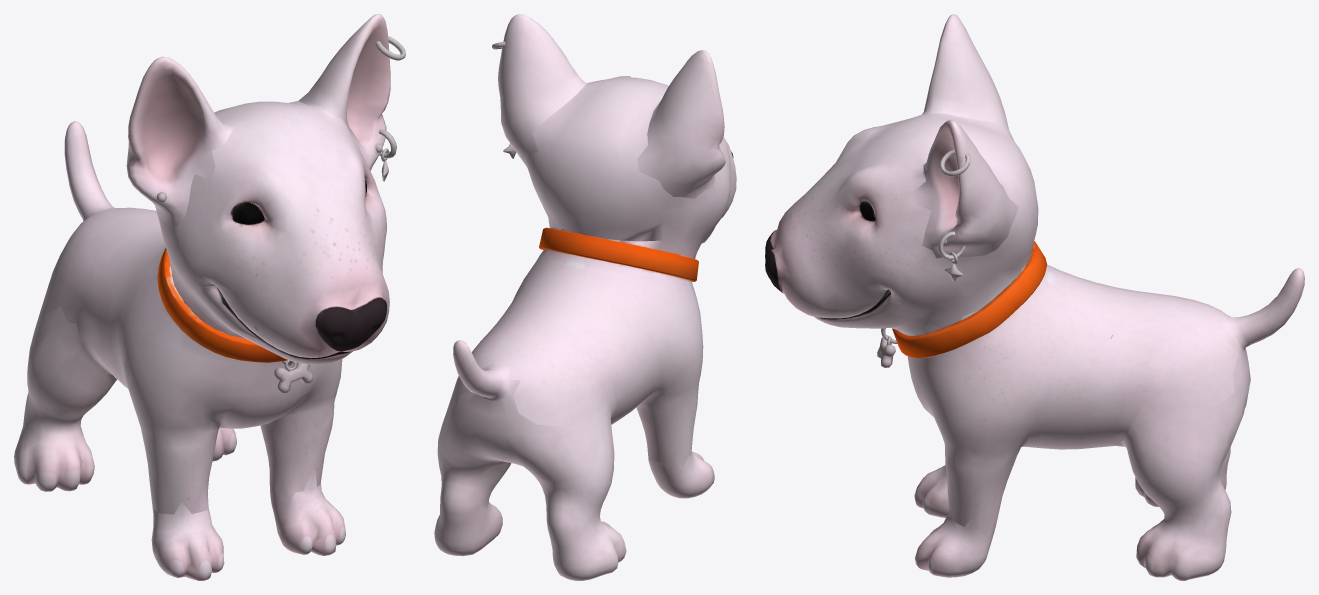
The model's file is parts_split.glb.
3 views of the same model, side by side, from view 1: azimuth 30°, elevation 25°; view 2: azimuth 150°, elevation 25°; view 3: azimuth 270°, elevation 25° (orthographic). The views are drawn at different scales.
Visible parts, largest first — view 1: tripo_part_0, tripo_part_2, tripo_part_1, tripo_part_4, tripo_part_5, tripo_part_12, tripo_part_3, tripo_part_7, tripo_part_8, tripo_part_13; view 2: tripo_part_2, tripo_part_1, tripo_part_0, tripo_part_4, tripo_part_5, tripo_part_7, tripo_part_12; view 3: tripo_part_2, tripo_part_0, tripo_part_1, tripo_part_5, tripo_part_4, tripo_part_7, tripo_part_3, tripo_part_12.
Part boxes in pixels (bbox=[...]): tripo_part_0: bbox=[155, 101, 389, 364]; tripo_part_2: bbox=[45, 207, 342, 514]; tripo_part_1: bbox=[14, 121, 236, 491]; tripo_part_4: bbox=[126, 56, 234, 231]; tripo_part_5: bbox=[298, 14, 390, 170]; tripo_part_12: bbox=[151, 502, 224, 580]; tripo_part_3: bbox=[270, 464, 345, 555]; tripo_part_7: bbox=[157, 248, 287, 362]; tripo_part_8: bbox=[274, 362, 313, 393]; tripo_part_13: bbox=[232, 202, 264, 224]; tripo_part_2: bbox=[450, 229, 703, 469]; tripo_part_1: bbox=[434, 340, 626, 580]; tripo_part_0: bbox=[525, 76, 736, 258]; tripo_part_4: bbox=[637, 50, 725, 198]; tripo_part_5: bbox=[498, 14, 587, 167]; tripo_part_7: bbox=[539, 227, 698, 281]; tripo_part_12: bbox=[648, 451, 714, 498]; tripo_part_2: bbox=[907, 265, 1238, 535]; tripo_part_0: bbox=[765, 113, 1038, 336]; tripo_part_1: bbox=[1120, 268, 1304, 580]; tripo_part_5: bbox=[913, 119, 1018, 258]; tripo_part_4: bbox=[922, 14, 1013, 140]; tripo_part_7: bbox=[892, 241, 1047, 358]; tripo_part_3: bbox=[915, 495, 995, 577]; tripo_part_12: bbox=[914, 465, 949, 517].
Size of the model in its own units: 0.5386 by 0.9939 by 0.9995.
21 materials, 21 textured.
